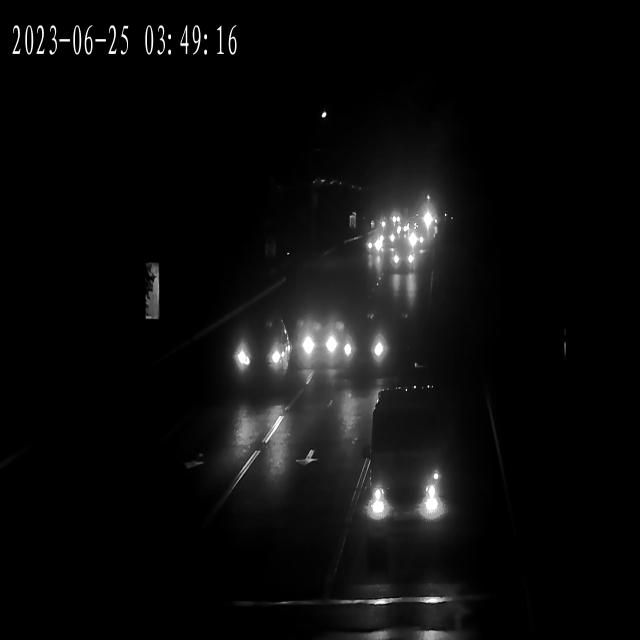Car: (351, 444, 457, 561), (225, 317, 293, 388), (296, 304, 353, 380), (347, 314, 398, 371), (387, 245, 416, 273), (395, 211, 414, 240), (378, 212, 396, 240), (361, 236, 384, 256), (406, 232, 429, 251), (370, 215, 384, 235)
